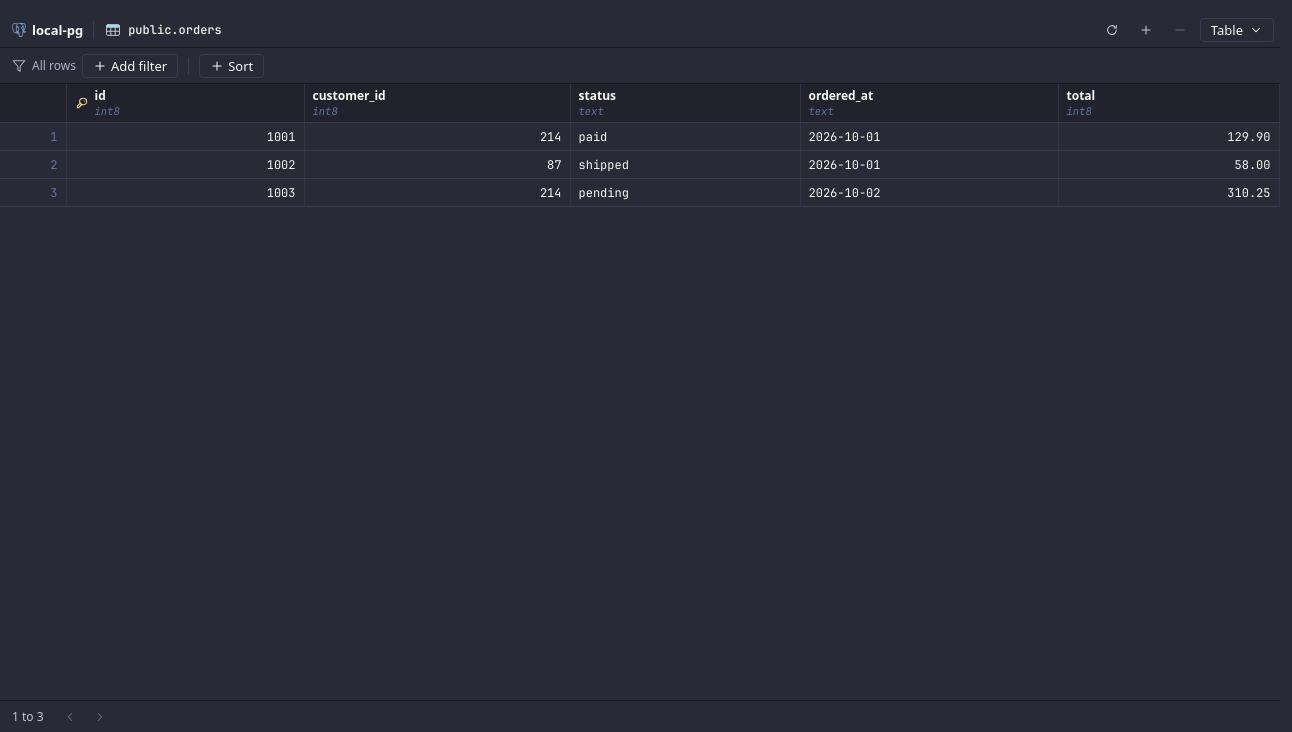
a drop after the last header moves the column last; a drop beside itself changes nothing
Check: the text "pending" is shown, box [578, 184, 629, 200]
Press the mouse on the button "customer_id int8" at (349, 96), box [304, 84, 570, 122]
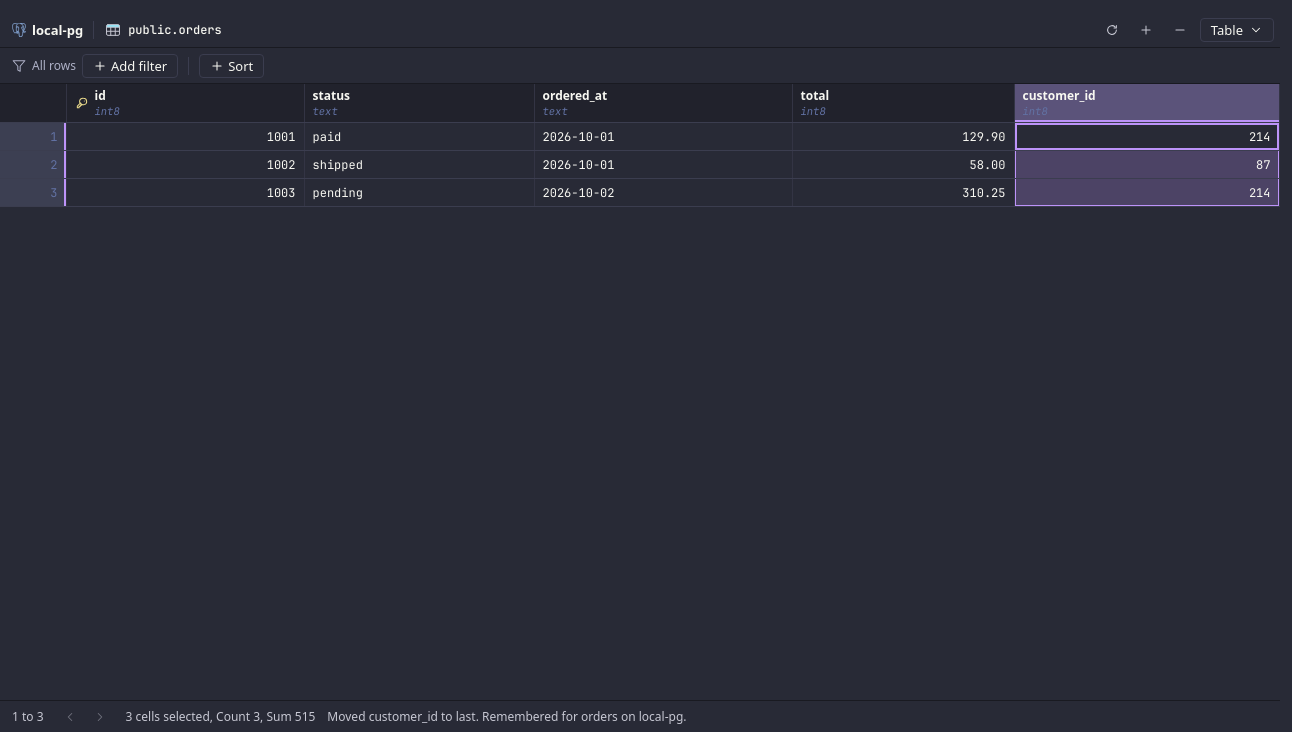
Check: the text with class "table-order-note" reads "Moved customer_id to last. Remembered for orders on local-pg.", box [327, 708, 687, 724]
Press the mouse on the button "id int8" at (185, 103), box [66, 84, 304, 122]
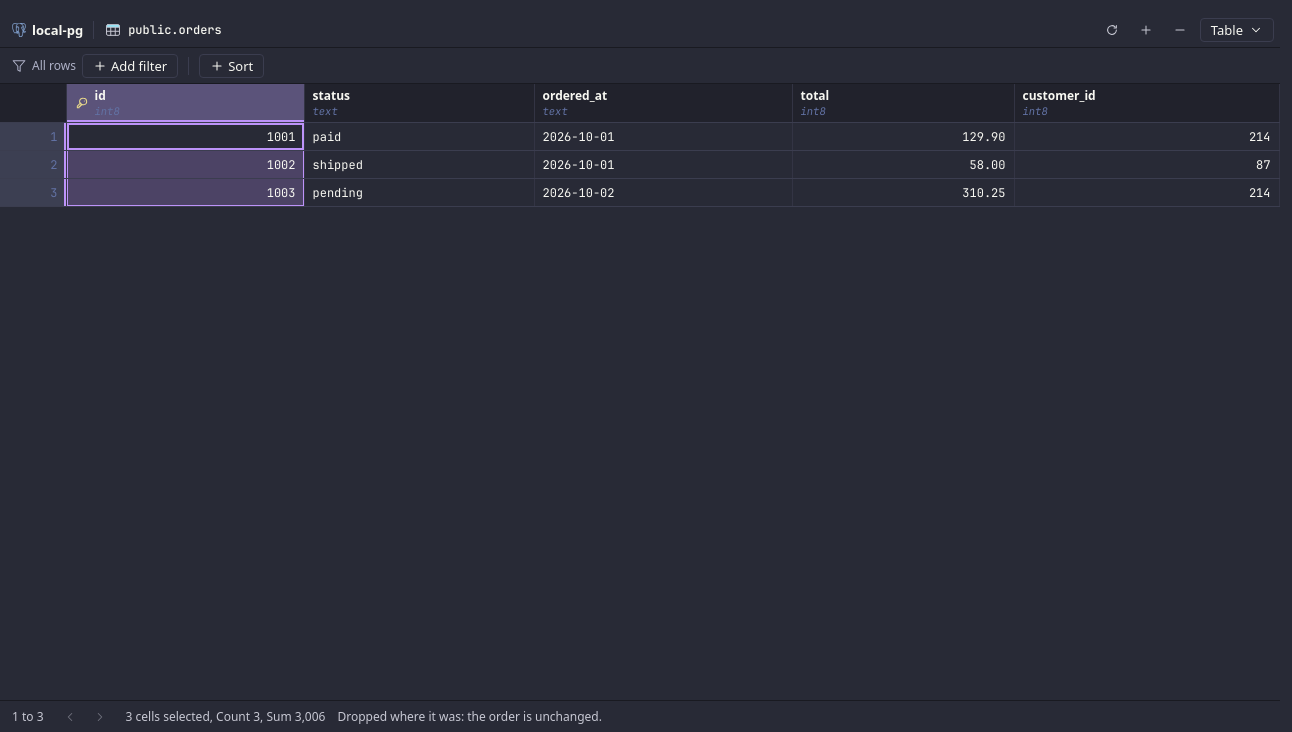
Check: the text with class "table-order-note" reads "Dropped where it was: the order is unchanged.", box [337, 708, 602, 724]
Press the mouse on the button "total int8" at (903, 103), box [792, 84, 1014, 122]
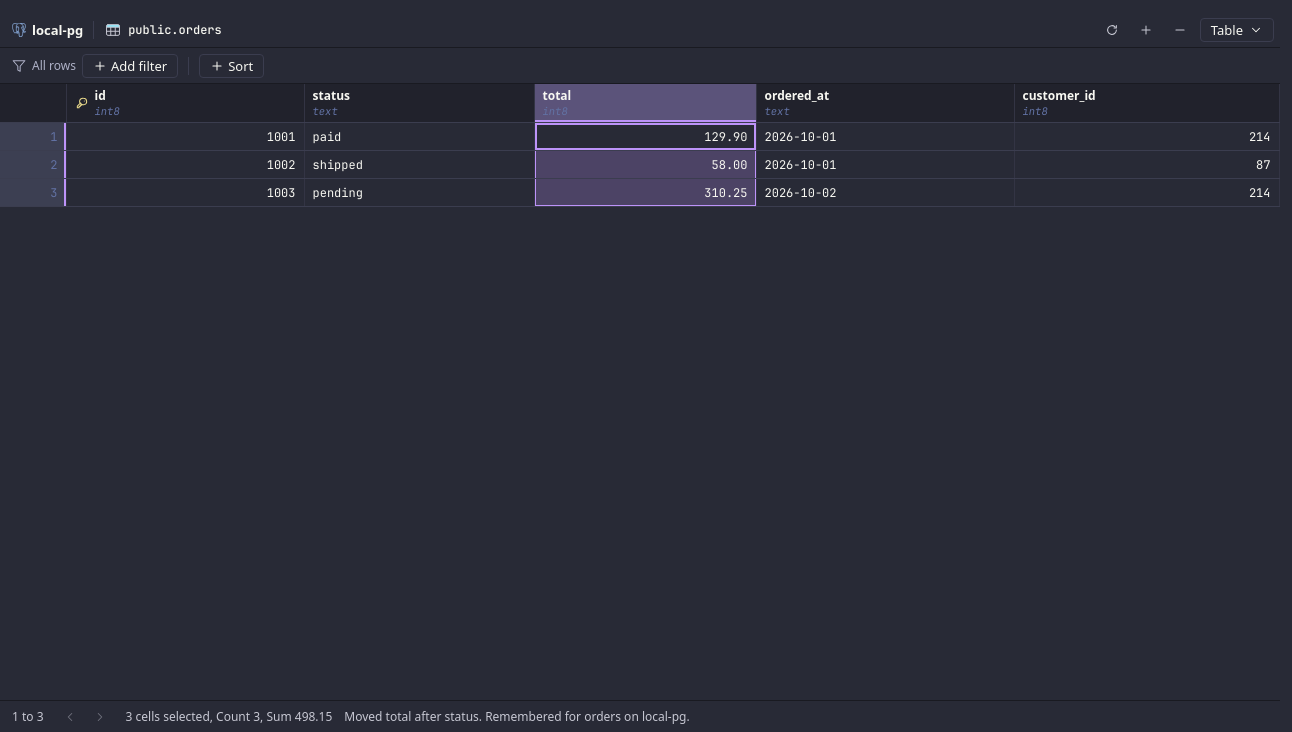
Check: the text with class "table-order-note" reads "Moved total after status. Remembered for orders on local-pg.", box [344, 708, 690, 724]
